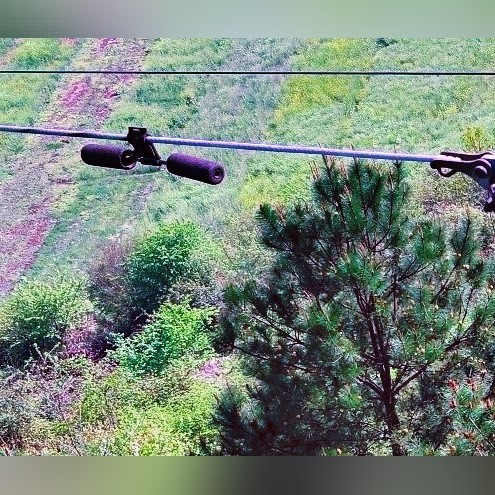Shockproof hammer: (72, 118, 226, 190)
